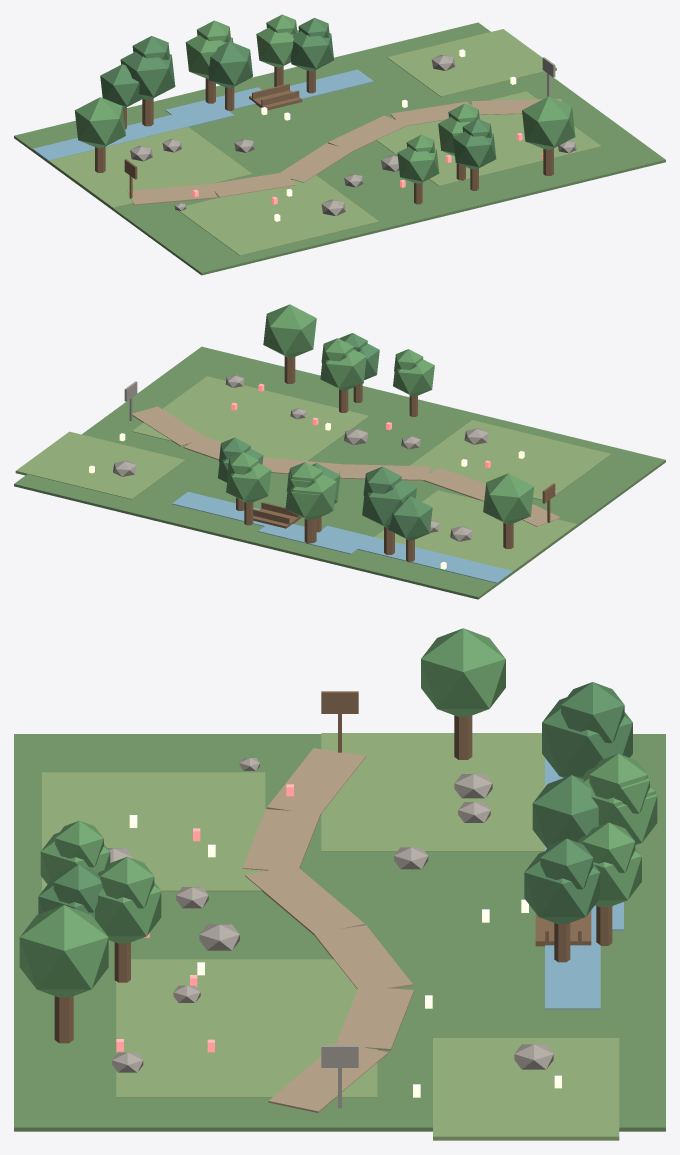
Rendered from sendero_bosque.glb.
3 renders of one model, top to bottom at view 1: azimuth 30°, elevation 25°; view 2: azimuth 150°, elevation 25°; view 3: azimuth 270°, elevation 25°, orthographic. The views are drawn at different scales.
Parts seen in each view (by area): view 1: GroundDark, GrassL_-5_-4, GrassL_-7_2, GrassL_8_4, GrassL_5_-2, Stream_1, TL1_5.6_-5.9, TL1_-8.8_2.6, TL1_-5.2_5.3, TL1_-1.9_5.0, TL1_1.5_4.8, Path_2 (+20 smaller); view 2: GroundDark, GrassL_5_-2, GrassL_-5_-4, GrassL_-7_2, GrassL_8_4, Stream_1, TL1_5.6_-5.9, TL1_-8.8_2.6, TL1_-6.2_5.5, TL1_-5.2_5.3, TL1_2.5_-4.7, Path_5 (+17 smaller); view 3: GroundDark, GrassL_5_-2, GrassL_-7_2, GrassL_-5_-4, GrassL_8_4, TL1_5.6_-5.9, TL1_-8.8_2.6, Path_2, TL1_-5.2_5.3, Path_3, TL1_-1.9_5.0, Path_0 (+25 smaller).
Boxes of the visible parts, left/top/right/bottom form: GroundDark: left=14, top=22, right=665, bottom=275; GrassL_-5_-4: left=178, top=175, right=379, bottom=255; GrassL_-7_2: left=49, top=127, right=251, bottom=209; GrassL_8_4: left=387, top=29, right=556, bottom=96; GrassL_5_-2: left=376, top=91, right=601, bottom=186; Stream_1: left=32, top=103, right=234, bottom=161; TL1_5.6_-5.9: left=522, top=96, right=575, bottom=149; TL1_-8.8_2.6: left=74, top=97, right=125, bottom=148; TL1_-5.2_5.3: left=120, top=51, right=175, bottom=100; TL1_-1.9_5.0: left=208, top=41, right=252, bottom=88; TL1_1.5_4.8: left=290, top=31, right=333, bottom=71; Path_2: left=280, top=143, right=352, bottom=182; GroundDark: left=14, top=346, right=665, bottom=599; GrassL_5_-2: left=132, top=376, right=369, bottom=461; GrassL_-5_-4: left=410, top=420, right=611, bottom=500; GrassL_-7_2: left=374, top=490, right=577, bottom=571; GrassL_8_4: left=15, top=431, right=185, bottom=499; Stream_1: left=316, top=525, right=513, bottom=583; TL1_5.6_-5.9: left=263, top=304, right=316, bottom=357; TL1_-8.8_2.6: left=483, top=473, right=534, bottom=524; TL1_-6.2_5.5: left=388, top=496, right=432, bottom=540; TL1_-5.2_5.3: left=362, top=480, right=416, bottom=528; TL1_2.5_-4.7: left=320, top=349, right=366, bottom=390; Path_5: left=132, top=406, right=204, bottom=446; GroundDark: left=14, top=734, right=665, bottom=1131; GrassL_5_-2: left=116, top=959, right=377, bottom=1097; GrassL_-7_2: left=321, top=733, right=544, bottom=851; GrassL_-5_-4: left=42, top=772, right=265, bottom=891; GrassL_8_4: left=433, top=1038, right=619, bottom=1140; TL1_5.6_-5.9: left=19, top=905, right=108, bottom=997; TL1_-8.8_2.6: left=421, top=628, right=505, bottom=716; Path_2: left=245, top=865, right=364, bottom=934; TL1_-5.2_5.3: left=542, top=697, right=632, bottom=778; Path_3: left=314, top=925, right=412, bottom=989; TL1_-1.9_5.0: left=532, top=775, right=598, bottom=848; Path_0: left=267, top=748, right=366, bottom=814.
Bounding box in the file's own units: 20.5 × 3.68 × 14.
